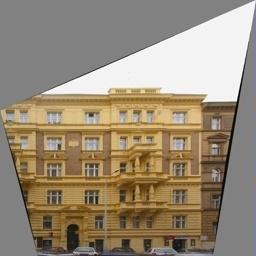building: (0, 87, 204, 256)
